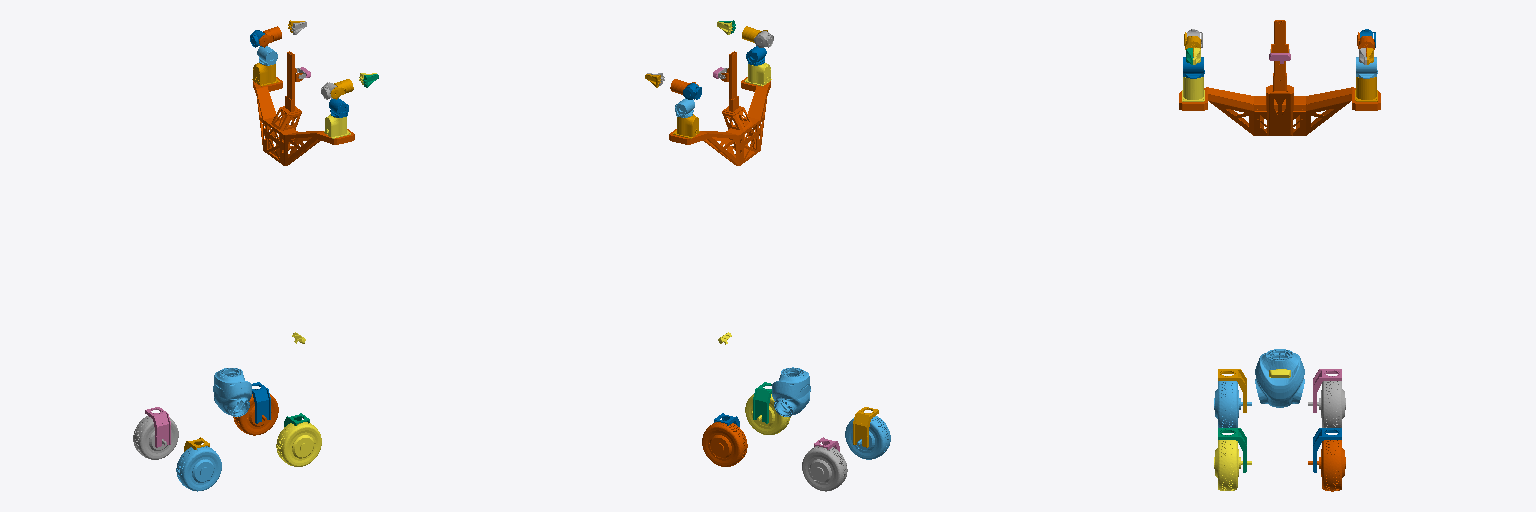
--- Render facts (derived) ---
Views: 3 orthographic renders of the robot side by side, from view 1: azimuth 30°, elevation 25°; view 2: azimuth 150°, elevation 25°; view 3: azimuth 270°, elevation 25°.
Model Aloha Split with 38 links and 37 joints (16 revolute, 4 continuous, 5 prismatic, 12 fixed), rooted at base_footprint, posed all joints at 0.
Links seen in each view (by area): view 1: lifting_link, fr_wheel_link, rr_wheel_link, base_link, rl_wheel_link, fl_wheel_link, rl_steering_wheel_link, fl_steering_wheel_link; view 2: lifting_link, fl_wheel_link, rl_wheel_link, base_link, rr_wheel_link, fr_wheel_link, rr_steering_wheel_link, fr_steering_wheel_link; view 3: lifting_link, base_link, fl_wheel_link, fr_wheel_link, rl_wheel_link, rr_wheel_link, left_base_link, right_base_link.
Boxes of the visible links, x1,y1,x2,y2 form: lifting_link: [253, 51, 354, 165]; fr_wheel_link: [276, 422, 321, 466]; rr_wheel_link: [176, 446, 221, 491]; base_link: [213, 368, 251, 416]; rl_wheel_link: [133, 416, 178, 459]; fl_wheel_link: [233, 394, 278, 435]; rl_steering_wheel_link: [145, 407, 170, 447]; fl_steering_wheel_link: [252, 382, 270, 423]; lifting_link: [669, 51, 770, 165]; fl_wheel_link: [702, 422, 747, 466]; rl_wheel_link: [802, 446, 847, 491]; base_link: [772, 367, 810, 416]; rr_wheel_link: [845, 416, 890, 459]; fr_wheel_link: [745, 394, 790, 434]; rr_steering_wheel_link: [853, 407, 878, 447]; fr_steering_wheel_link: [753, 382, 771, 423]; lifting_link: [1179, 20, 1380, 135]; base_link: [1255, 349, 1304, 407]; fl_wheel_link: [1308, 440, 1345, 491]; fr_wheel_link: [1214, 440, 1251, 490]; rl_wheel_link: [1308, 381, 1345, 427]; rr_wheel_link: [1214, 381, 1251, 427]; left_base_link: [1355, 77, 1377, 101]; right_base_link: [1182, 77, 1204, 101].
Bounding box of the posed robot: 0.9138 × 0.712 × 1.85 m (x, y, z).
Meshes: 17 distinct files referenced, 25 mesh visuals loaded (12 OBJ); not drawn: 8 (reference not matched to a file when rendering).

robot.urdf — Aloha Split:
<?xml version="1.0" ?>
<!-- =================================================================================== -->
<!-- |    This document was autogenerated by xacro from aloha_split.xacro              | -->
<!-- |    EDITING THIS FILE BY HAND IS NOT RECOMMENDED                                 | -->
<!-- =================================================================================== -->
<robot name="Aloha Split">
  <link name="base_footprint"/>
  <joint name="base_footprint_joint" type="fixed">
    <parent link="base_footprint"/>
    <child link="base_link"/>
    <origin xyz="0 0 0.33"/>
  </joint>
  <link name="base_link">
    <inertial>
      <origin xyz="-0.0242698272228022 -0.0030308024613212 0.0544267444673498"/>
      <mass value="10"/>
      <inertia ixx="0.1354" ixy="0.0" ixz="0.0" iyy="0.2417" iyz="0.0" izz="0.3085"/>
    </inertial>
    <visual>
      <geometry>
        <mesh filename="package://agilex_aloha_description/meshes/ranger_mini/base.obj"/>
      </geometry>
    </visual>
    <collision>
      <origin xyz="0 0 -0.1"/>
      <geometry>
        <box size="0.5 0.35 0.2"/>
      </geometry>
    </collision>
  </link>
  <link name="fr_steering_wheel_link">
    <inertial>
      <origin xyz="1.8493E-05 1.2713E-06 0.043679"/>
      <mass value="1"/>
      <inertia ixx="0.0063625" ixy="-1.0581E-07" ixz="-4.0831E-07" iyy="0.006363" iyz="-3.4944E-08" izz="0.010465"/>
    </inertial>
    <visual>
      <geometry>
        <mesh filename="package://agilex_aloha_description/meshes/ranger_mini/steering_wheel.obj"/>
      </geometry>
    </visual>
  </link>
  <joint name="fr_steering_joint" type="revolute">
    <origin xyz="0.241 -0.185 -0.115"/>
    <parent link="base_link"/>
    <child link="fr_steering_wheel_link"/>
    <axis xyz="0 0 -1"/>
    <limit effort="5" lower="-2.1" upper="2.1" velocity="6.28"/>
  </joint>
  <link name="fr_wheel_link">
    <inertial>
      <mass value="8"/>
      <inertia ixx="0.02047" ixy="0.0" ixz="0.0" iyy="0.02047" iyz="0.0" izz="0.0324"/>
    </inertial>
    <visual>
      <origin rpy="3.14 0 0" xyz="0 0 0"/>
      <geometry>
        <mesh filename="package://agilex_aloha_description/meshes/ranger_mini/wheel.obj"/>
      </geometry>
    </visual>
    <collision>
      <origin rpy="1.57 0 0" xyz="0 0 -0.005"/>
      <geometry>
        <cylinder length="0.08" radius="0.09"/>
      </geometry>
    </collision>
  </link>
  <joint name="fr_wheel" type="continuous">
    <origin xyz="0.0 0.0 -0.12"/>
    <parent link="fr_steering_wheel_link"/>
    <child link="fr_wheel_link"/>
    <axis xyz="0 1 0"/>
  </joint>
  <link name="fl_steering_wheel_link">
    <inertial>
      <origin xyz="-0.0017956 -9.6304E-08 0.043642"/>
      <mass value="1"/>
      <inertia ixx="0.0063695" ixy="-2.1067E-08" ixz="-0.00016867" iyy="0.006363" iyz="-1.0301E-08" izz="0.010458"/>
    </inertial>
    <visual>
      <origin rpy="0 0 3.14"/>
      <geometry>
        <mesh filename="package://agilex_aloha_description/meshes/ranger_mini/steering_wheel.obj"/>
      </geometry>
    </visual>
  </link>
  <joint name="fl_steering_joint" type="revolute">
    <origin xyz="0.241 0.185 -0.115"/>
    <parent link="base_link"/>
    <child link="fl_steering_wheel_link"/>
    <axis xyz="0 0 -1"/>
    <limit effort="5" lower="-2.1" upper="2.1" velocity="6.28"/>
  </joint>
  <link name="fl_wheel_link">
    <inertial>
      <mass value="8"/>
      <inertia ixx="0.02047" ixy="0.0" ixz="0.0" iyy="0.02047" iyz="0.0" izz="0.0324"/>
    </inertial>
    <visual>
      <geometry>
        <mesh filename="package://agilex_aloha_description/meshes/ranger_mini/wheel.obj"/>
      </geometry>
    </visual>
    <collision>
      <origin rpy="1.57 0 0" xyz="0 0 -0.005"/>
      <geometry>
        <cylinder length="0.08" radius="0.09"/>
      </geometry>
    </collision>
  </link>
  <joint name="fl_wheel" type="continuous">
    <origin xyz="0.0 0.0 -0.12"/>
    <parent link="fl_steering_wheel_link"/>
    <child link="fl_wheel_link"/>
    <axis xyz="0 1 0"/>
  </joint>
  <link name="rl_steering_wheel_link">
    <inertial>
      <origin xyz="-0.00017093 6.1255E-08 0.043678"/>
      <mass value="1"/>
      <inertia ixx="0.0063627" ixy="-2.1069E-08" ixz="-1.587E-05" iyy="0.006363" iyz="9.3201E-09" izz="0.010465"/>
    </inertial>
    <visual>
      <origin rpy="0 0 3.14"/>
      <geometry>
        <mesh filename="package://agilex_aloha_description/meshes/ranger_mini/steering_wheel.obj"/>
      </geometry>
    </visual>
  </link>
  <joint name="rl_steering_joint" type="revolute">
    <origin xyz="-0.253 0.185 -0.115"/>
    <parent link="base_link"/>
    <child link="rl_steering_wheel_link"/>
    <axis xyz="0 0 -1"/>
    <limit effort="5" lower="-2.1" upper="2.1" velocity="6.28"/>
  </joint>
  <link name="rl_wheel_link">
    <inertial>
      <mass value="8"/>
      <inertia ixx="0.02047" ixy="0.0" ixz="0.0" iyy="0.02047" iyz="0.0" izz="0.0324"/>
    </inertial>
    <visual>
      <geometry>
        <mesh filename="package://agilex_aloha_description/meshes/ranger_mini/wheel.obj"/>
      </geometry>
    </visual>
    <collision>
      <origin rpy="1.57 0 0" xyz="0.00 0.00 -0.005"/>
      <geometry>
        <cylinder length="0.08" radius="0.09"/>
      </geometry>
    </collision>
  </link>
  <joint name="rl_wheel" type="continuous">
    <origin xyz="0.0 0.0 -0.12 "/>
    <parent link="rl_steering_wheel_link"/>
    <child link="rl_wheel_link"/>
    <axis xyz="0 1 0"/>
  </joint>
  <link name="rr_steering_wheel_link">
    <inertial>
      <mass value="1"/>
      <inertia ixx="0.01" ixy="0.0" ixz="0.0" iyy="0.01" iyz="0.0" izz="0.01"/>
    </inertial>
    <visual>
      <geometry>
        <mesh filename="package://agilex_aloha_description/meshes/ranger_mini/steering_wheel.obj"/>
      </geometry>
    </visual>
  </link>
  <joint name="rr_steering_joint" type="revolute">
    <origin xyz="-0.253 -0.185 -0.115"/>
    <parent link="base_link"/>
    <child link="rr_steering_wheel_link"/>
    <axis xyz="0 0 -1"/>
    <limit effort="5" lower="-2.1" upper="2.1" velocity="6.28"/>
  </joint>
  <link name="rr_wheel_link">
    <inertial>
      <mass value="8"/>
      <inertia ixx="0.02047" ixy="0.0" ixz="0.0" iyy="0.02047" iyz="0.0" izz="0.0324"/>
    </inertial>
    <visual>
      <origin rpy="3.14 0 0"/>
      <geometry>
        <mesh filename="package://agilex_aloha_description/meshes/ranger_mini/wheel.obj"/>
      </geometry>
    </visual>
    <collision>
      <origin rpy="1.57 0 0" xyz="0.00 0 -0.005"/>
      <geometry>
        <cylinder length="0.08" radius="0.09"/>
      </geometry>
    </collision>
  </link>
  <joint name="rr_wheel" type="continuous">
    <origin xyz="0.0 0.0 -0.12 "/>
    <parent link="rr_steering_wheel_link"/>
    <child link="rr_wheel_link"/>
    <axis xyz="0 1 0"/>
  </joint>
  <link name="box_link">
    <inertial>
      <origin xyz="0.10921 -0.0087718 0.52779"/>
      <mass value="27.261"/>
      <inertia ixx="1.8122" ixy="4.558E-05" ixz="0.014722" iyy="1.7779" iyz="-4.0693E-05" izz="0.28053"/>
    </inertial>
    <visual>
      <geometry>
        <mesh filename="package://agilex_aloha_description/meshes/aloha_split/box_link.obj"/>
      </geometry>
    </visual>
    <collision>
      <geometry>
        <mesh filename="package://agilex_aloha_description/meshes/aloha_split/box_link.obj"/>
      </geometry>
    </collision>
  </link>
  <joint name="box_joint" type="fixed">
    <parent link="base_link"/>
    <child link="box_link"/>
  </joint>
  <link name="front_camera_link">
    <inertial>
      <origin xyz="-0.011443 0.0003607 -0.0012124"/>
      <mass value="0.020053"/>
      <inertia ixx="1.1182E-05" ixy="2.589E-09" ixz="5.6552E-08" iyy="2.2729E-06" iyz="-6.7447E-07" izz="1.0081E-05"/>
    </inertial>
    <visual>
      <geometry>
        <mesh filename="package://agilex_aloha_description/meshes/aloha_split/camera.obj"/>
      </geometry>
    </visual>
    <collision>
      <geometry>
        <mesh filename="package://agilex_aloha_description/meshes/aloha_split/camera.obj"/>
      </geometry>
    </collision>
  </link>
  <joint name="front_camera_joint" type="fixed">
    <origin rpy="0 0.6606 -0.0051043" xyz="0.35679 0 0.15819"/>
    <parent link="box_link"/>
    <child link="front_camera_link"/>
  </joint>
  <link name="lidar_link">
    <inertial>
      <origin xyz="-0.0022133 -0.00090659 0.025996"/>
      <mass value="0.048617"/>
      <inertia ixx="1.0358E-05" ixy="9.2377E-09" ixz="-2.6386E-07" iyy="1.0387E-05" iyz="-2.6377E-07" izz="1.7919E-05"/>
    </inertial>
    <visual>
      <geometry>
        <mesh filename="package://agilex_aloha_description/meshes/aloha_split/mid360.obj"/>
      </geometry>
    </visual>
    <collision>
      <geometry>
        <mesh filename="package://agilex_aloha_description/meshes/aloha_split/mid360.obj"/>
      </geometry>
    </collision>
  </link>
  <joint name="lidar_joint" type="fixed">
    <origin rpy="-0.035132 0.20001 -0.001242" xyz="0.31755 0 0.036188"/>
    <parent link="box_link"/>
    <child link="lidar_link"/>
  </joint>
  <link name="lifting_link">
    <inertial>
      <origin xyz="0.071327 0.00032985 0.10599"/>
      <mass value="0.47066"/>
      <inertia ixx="0.010952" ixy="-5.2124E-06" ixz="-0.00046317" iyy="0.0018329" iyz="-4.6428E-06" izz="0.010201"/>
    </inertial>
    <visual>
      <geometry>
        <mesh filename="package://agilex_aloha_description/meshes/aloha_split/lift_link.obj"/>
      </geometry>
    </visual>
    <collision>
      <geometry>
        <mesh filename="package://agilex_aloha_description/meshes/aloha_split/lift_link.obj"/>
      </geometry>
    </collision>
  </link>
  <joint name="lifting_joint" type="prismatic">
    <origin xyz="0.22448 0 1.1147"/>
    <parent link="box_link"/>
    <child link="lifting_link"/>
    <axis xyz="0 0 1"/>
    <limit effort="100" lower="-0.6" upper="0.0" velocity="10.0"/>
  </joint>
  <link name="top_camera_link">
    <inertial>
      <origin xyz="-0.011443 2.4833E-05 -0.0012615"/>
      <mass value="0.020053"/>
      <inertia ixx="1.1181E-05" ixy="1.204E-07" ixz="4.9068E-08" iyy="2.2587E-06" iyz="5.7637E-07" izz="1.0097E-05"/>
    </inertial>
    <visual>
      <geometry>
        <mesh filename="package://agilex_aloha_description/meshes/aloha_split/camera.obj"/>
      </geometry>
    </visual>
    <collision>
      <geometry>
        <mesh filename="package://agilex_aloha_description/meshes/aloha_split/camera.obj"/>
      </geometry>
    </collision>
  </link>
  <joint name="top_camera_joint" type="fixed">
    <origin rpy="0 0.00080758 -0.01623" xyz="0.16194 0 0.29838"/>
    <parent link="lifting_link"/>
    <child link="top_camera_link"/>
  </joint>
  <link name="top_camera_support">
    <visual>
      <geometry>
        <mesh filename="package://agilex_aloha_description/meshes/aloha_split/camera_support.obj"/>
      </geometry>
    </visual>
  </link>
  <joint name="top_camera_support_joint" type="fixed">
    <origin rpy="0 0.00080758 -0.01623" xyz="0.16194 0 0.29838"/>
    <parent link="lifting_link"/>
    <child link="top_camera_support"/>
  </joint>
  <link name="left_base_link">
    <inertial>
      <origin xyz="-0.00473641164191482 2.56829134630247E-05 0.041451518036016"/>
      <mass value="1.02"/>
      <inertia ixx="0.00267433" ixy="-0.00000073" ixz="-0.00017389" iyy="0.00282612" iyz="0.0000004" izz="0.00089624"/>
    </inertial>
    <visual>
      <geometry>
        <mesh filename="package://piper_description/meshes/base_link.obj"/>
      </geometry>
    </visual>
    <collision>
      <geometry>
        <mesh filename="package://piper_description/meshes/base_link.obj"/>
      </geometry>
    </collision>
  </link>
  <link name="left_link1">
    <inertial>
      <origin xyz="0.000121504734057468 0.000104632162460536 -0.00438597309559853"/>
      <mass value="0.71"/>
      <inertia ixx="0.00048916" ixy="-0.00000036" ixz="-0.00000224" iyy="0.00040472" iyz="-0.00000242" izz="0.00043982"/>
    </inertial>
    <visual>
      <geometry>
        <mesh filename="package://piper_description/meshes/link1.obj"/>
      </geometry>
    </visual>
    <collision>
      <geometry>
        <mesh filename="package://piper_description/meshes/link1.obj"/>
      </geometry>
    </collision>
  </link>
  <joint name="left_joint1" type="revolute">
    <origin rpy="0 0 0" xyz="0 0 0.123"/>
    <parent link="left_base_link"/>
    <child link="left_link1"/>
    <axis xyz="0 0 1"/>
    <limit effort="100" lower="-2.618" upper="2.618" velocity="5"/>
  </joint>
  <link name="left_link2">
    <inertial>
      <origin rpy="0 0 0" xyz="0.198666145229743 -0.010926924140076 0.00142121714502687"/>
      <mass value="1.17"/>
      <inertia ixx="0.00116918" ixy="-0.00180037" ixz="0.00025146" iyy="0.06785384" iyz="-0.00000455" izz="0.06774489"/>
    </inertial>
    <visual>
      <geometry>
        <mesh filename="package://piper_description/meshes/link2.obj"/>
      </geometry>
    </visual>
    <collision>
      <geometry>
        <mesh filename="package://piper_description/meshes/link2.obj"/>
      </geometry>
    </collision>
  </link>
  <joint name="left_joint2" type="revolute">
    <origin rpy="1.5708 -0.1359 -3.1416" xyz="0 0 0"/>
    <parent link="left_link1"/>
    <child link="left_link2"/>
    <axis xyz="0 0 1"/>
    <limit effort="100" lower="0" upper="3.14" velocity="5"/>
  </joint>
  <link name="left_link3">
    <inertial>
      <origin rpy="0 0 0" xyz="-0.0202737662122021 -0.133914995944595 -0.000458682652737356"/>
      <mass value="0.5"/>
      <inertia ixx="0.01361711" ixy="0.00165794" ixz="-0.00000048" iyy="0.00045024" iyz="-0.00000045" izz="0.01380322"/>
    </inertial>
    <visual>
      <geometry>
        <mesh filename="package://piper_description/meshes/link3.obj"/>
      </geometry>
    </visual>
    <collision>
      <geometry>
        <mesh filename="package://piper_description/meshes/link3.obj"/>
      </geometry>
    </collision>
  </link>
  <joint name="left_joint3" type="revolute">
    <origin rpy="0 0 -1.7939" xyz="0.28503 0 0"/>
    <parent link="left_link2"/>
    <child link="left_link3"/>
    <axis xyz="0 0 1"/>
    <limit effort="100" lower="-2.967" upper="0" velocity="5"/>
  </joint>
  <link name="left_link4">
    <inertial>
      <origin rpy="0 0 0" xyz="-9.66635791618542E-05 0.000876064475651083 -0.00496880904640868"/>
      <mass value="0.38"/>
      <inertia ixx="0.00018501" ixy="0.00000054" ixz="0.00000120" iyy="0.00018965" iyz="-0.00000841" izz="0.00015484"/>
    </inertial>
    <visual>
      <geometry>
        <mesh filename="package://piper_description/meshes/link4.obj"/>
      </geometry>
    </visual>
    <collision>
      <geometry>
        <mesh filename="package://piper_description/meshes/link4.obj"/>
      </geometry>
    </collision>
  </link>
  <joint name="left_joint4" type="revolute">
    <origin rpy="1.5708 0 0" xyz="-0.021984 -0.25075 0"/>
    <parent link="left_link3"/>
    <child link="left_link4"/>
    <axis xyz="0 0 1"/>
    <limit effort="100" lower="-1.745" upper="1.745" velocity="5"/>
  </joint>
  <link name="left_link5">
    <inertial>
      <origin rpy="0 0 0" xyz="-4.10554118924211E-05 -0.0566486692356075 -0.0037205791677906"/>
      <mass value="0.383"/>
      <inertia ixx="0.00166169" ixy="0.00000006" ixz="-0.00000007" iyy="0.00018510" iyz="0.00001026" izz="0.00164321"/>
    </inertial>
    <visual>
      <geometry>
        <mesh filename="package://piper_description/meshes/link5.obj"/>
      </geometry>
    </visual>
    <collision>
      <geometry>
        <mesh filename="package://piper_description/meshes/link5.obj"/>
      </geometry>
    </collision>
  </link>
  <joint name="left_joint5" type="revolute">
    <origin rpy="-1.5708 0 0" xyz="0 0 0"/>
    <parent link="left_link4"/>
    <child link="left_link5"/>
    <axis xyz="0 0 1"/>
    <limit effort="100" lower="-1.22" upper="1.22" velocity="5"/>
  </joint>
  <joint name="left_joint6" type="revolute">
    <origin rpy="1.5708 0 0" xyz="0 -0.091 0"/>
    <parent link="left_link5"/>
    <child link="left_link6"/>
    <axis xyz="0 0 1"/>
    <limit effort="100" lower="-2.0944" upper="2.0944" velocity="3"/>
  </joint>
  <link name="left_link6">
    <inertial>
      <origin xyz="-0.000183807162235591 8.05033155577911E-05 0.0321436689908876"/>
      <mass value="0.657"/>
      <inertia ixx="0.00092934" ixy="0.00000034" ixz="-0.00000738" iyy="0.00071447" iyz="0.00000005" izz="0.00039442"/>
    </inertial>
    <visual>
      <geometry>
        <mesh filename="package://piper_description/meshes/link6.obj"/>
      </geometry>
    </visual>
    <collision>
      <geometry>
        <mesh filename="package://piper_description/meshes/link6.obj"/>
      </geometry>
    </collision>
  </link>
  <link name="left_link7">
    <inertial>
      <origin rpy="0 0 0" xyz="0.00065123185041968 -0.0491929869131989 0.00972258769184025"/>
      <mass value="0.025"/>
      <inertia ixx="0.00007371" ixy="-0.00000113" ixz="0.00000021" iyy="0.00000781" iyz="-0.00001372" izz="0.0000747"/>
    </inertial>
    <visual>
      <geometry>
        <mesh filename="package://piper_description/meshes/link7.obj"/>
      </geometry>
    </visual>
    <collision>
      <geometry>
        <mesh filename="package://piper_description/meshes/link7.obj"/>
      </geometry>
    </collision>
  </link>
  <joint name="left_joint7" type="prismatic">
    <origin xyz="0 0 0.1358"/>
    <parent link="left_link6"/>
    <child link="left_link7"/>
    <axis xyz="0 -1 0"/>
    <limit effort="10" lower="0" upper="0.035" velocity="1"/>
  </joint>
  <link name="left_link8">
    <inertial>
      <origin xyz="0.000651231850419722 -0.0491929869131991 0.00972258769184024"/>
      <mass value="0.025"/>
      <inertia ixx="0.00007371" ixy="-0.00000113" ixz="0.00000021" iyy="0.00000781" iyz="-0.00001372" izz="0.0000747"/>
    </inertial>
    <visual>
      <geometry>
        <mesh filename="package://piper_description/meshes/link8.obj"/>
      </geometry>
    </visual>
    <collision>
      <geometry>
        <mesh filename="package://piper_description/meshes/link8.obj"/>
      </geometry>
    </collision>
  </link>
  <joint name="left_joint8" type="prismatic">
    <origin xyz="0 0 0.1358"/>
    <parent link="left_link6"/>
    <child link="left_link8"/>
    <mimic joint="left_joint7" multiplier="1" offset="0"/>
    <axis xyz="0 1 0"/>
    <limit effort="10" lower="0" upper="0.035" velocity="1"/>
  </joint>
  <link name="left_gripper_center"/>
  <joint name="left_gripper_center_fixed" type="fixed">
    <parent link="left_link6"/>
    <child link="left_gripper_center"/>
    <origin rpy="0 -1.57 0" xyz="0 0 0.1358"/>
  </joint>
  <link name="left_camera"/>
  <joint name="left_camera_fixed" type="fixed">
    <origin rpy="0 -1.22 0" xyz="-0.073 0 0.041"/>
    <parent link="left_link6"/>
    <child link="left_camera"/>
  </joint>
  <joint name="arm_and_lifting_left" type="fixed">
    <origin rpy="0.0 0.0 0.0" xyz="0.144 0.306 0.138"/>
    <parent link="lifting_link"/>
    <child link="left_base_link"/>
    <axis xyz="0.0 0.0 0.0"/>
    <limit effort="0.0" lower="0.0" upper="0.0" velocity="0.0"/>
  </joint>
  <link name="right_base_link">
    <inertial>
      <origin xyz="-0.00473641164191482 2.56829134630247E-05 0.041451518036016"/>
      <mass value="1.02"/>
      <inertia ixx="0.00267433" ixy="-0.00000073" ixz="-0.00017389" iyy="0.00282612" iyz="0.0000004" izz="0.00089624"/>
    </inertial>
    <visual>
      <geometry>
        <mesh filename="package://piper_description/meshes/base_link.obj"/>
      </geometry>
    </visual>
    <collision>
      <geometry>
        <mesh filename="package://piper_description/meshes/base_link.obj"/>
      </geometry>
    </collision>
  </link>
  <link name="right_link1">
    <inertial>
      <origin xyz="0.000121504734057468 0.000104632162460536 -0.00438597309559853"/>
      <mass value="0.71"/>
      <inertia ixx="0.00048916" ixy="-0.00000036" ixz="-0.00000224" iyy="0.00040472" iyz="-0.00000242" izz="0.00043982"/>
    </inertial>
    <visual>
      <geometry>
        <mesh filename="package://piper_description/meshes/link1.obj"/>
      </geometry>
    </visual>
    <collision>
      <geometry>
        <mesh filename="package://piper_description/meshes/link1.obj"/>
      </geometry>
    </collision>
  </link>
  <joint name="right_joint1" type="revolute">
    <origin rpy="0 0 0" xyz="0 0 0.123"/>
    <parent link="right_base_link"/>
    <child link="right_link1"/>
    <axis xyz="0 0 1"/>
    <limit effort="100" lower="-2.618" upper="2.618" velocity="5"/>
  </joint>
  <link name="right_link2">
    <inertial>
      <origin rpy="0 0 0" xyz="0.198666145229743 -0.010926924140076 0.00142121714502687"/>
      <mass value="1.17"/>
      <inertia ixx="0.00116918" ixy="-0.00180037" ixz="0.00025146" iyy="0.06785384" iyz="-0.00000455" izz="0.06774489"/>
    </inertial>
    <visual>
      <geometry>
        <mesh filename="package://piper_description/meshes/link2.obj"/>
      </geometry>
    </visual>
    <collision>
      <geometry>
        <mesh filename="package://piper_description/meshes/link2.obj"/>
      </geometry>
    </collision>
  </link>
  <joint name="right_joint2" type="revolute">
    <origin rpy="1.5708 -0.1359 -3.1416" xyz="0 0 0"/>
    <parent link="right_link1"/>
    <child link="right_link2"/>
    <axis xyz="0 0 1"/>
    <limit effort="100" lower="0" upper="3.14" velocity="5"/>
  </joint>
  <link name="right_link3">
    <inertial>
      <origin rpy="0 0 0" xyz="-0.0202737662122021 -0.133914995944595 -0.000458682652737356"/>
      <mass value="0.5"/>
      <inertia ixx="0.01361711" ixy="0.00165794" ixz="-0.00000048" iyy="0.00045024" iyz="-0.00000045" izz="0.01380322"/>
    </inertial>
    <visual>
      <geometry>
        <mesh filename="package://piper_description/meshes/link3.obj"/>
      </geometry>
    </visual>
    <collision>
      <geometry>
        <mesh filename="package://piper_description/meshes/link3.obj"/>
      </geometry>
    </collision>
  </link>
  <joint name="right_joint3" type="revolute">
    <origin rpy="0 0 -1.7939" xyz="0.28503 0 0"/>
    <parent link="right_link2"/>
    <child link="right_link3"/>
    <axis xyz="0 0 1"/>
    <limit effort="100" lower="-2.967" upper="0" velocity="5"/>
  </joint>
  <link name="right_link4">
    <inertial>
      <origin rpy="0 0 0" xyz="-9.66635791618542E-05 0.000876064475651083 -0.00496880904640868"/>
      <mass value="0.38"/>
      <inertia ixx="0.00018501" ixy="0.00000054" ixz="0.00000120" iyy="0.00018965" iyz="-0.00000841" izz="0.00015484"/>
    </inertial>
    <visual>
      <geometry>
        <mesh filename="package://piper_description/meshes/link4.obj"/>
      </geometry>
    </visual>
    <collision>
      <geometry>
        <mesh filename="package://piper_description/meshes/link4.obj"/>
      </geometry>
    </collision>
  </link>
  <joint name="right_joint4" type="revolute">
    <origin rpy="1.5708 0 0" xyz="-0.021984 -0.25075 0"/>
    <parent link="right_link3"/>
    <child link="right_link4"/>
    <axis xyz="0 0 1"/>
    <limit effort="100" lower="-1.745" upper="1.745" velocity="5"/>
  </joint>
  <link name="right_link5">
    <inertial>
      <origin rpy="0 0 0" xyz="-4.10554118924211E-05 -0.0566486692356075 -0.0037205791677906"/>
      <mass value="0.383"/>
      <inertia ixx="0.00166169" ixy="0.00000006" ixz="-0.00000007" iyy="0.00018510" iyz="0.00001026" izz="0.00164321"/>
    </inertial>
    <visual>
      <geometry>
        <mesh filename="package://piper_description/meshes/link5.obj"/>
      </geometry>
    </visual>
    <collision>
      <geometry>
        <mesh filename="package://piper_description/meshes/link5.obj"/>
      </geometry>
    </collision>
  </link>
  <joint name="right_joint5" type="revolute">
    <origin rpy="-1.5708 0 0" xyz="0 0 0"/>
    <parent link="right_link4"/>
    <child link="right_link5"/>
    <axis xyz="0 0 1"/>
    <limit effort="100" lower="-1.22" upper="1.22" velocity="5"/>
  </joint>
  <joint name="right_joint6" type="revolute">
    <origin rpy="1.5708 0 0" xyz="0 -0.091 0"/>
    <parent link="right_link5"/>
    <child link="right_link6"/>
    <axis xyz="0 0 1"/>
    <limit effort="100" lower="-2.0944" upper="2.0944" velocity="3"/>
  </joint>
  <link name="right_link6">
    <inertial>
      <origin xyz="-0.000183807162235591 8.05033155577911E-05 0.0321436689908876"/>
      <mass value="0.657"/>
      <inertia ixx="0.00092934" ixy="0.00000034" ixz="-0.00000738" iyy="0.00071447" iyz="0.00000005" izz="0.00039442"/>
    </inertial>
    <visual>
      <geometry>
        <mesh filename="package://piper_description/meshes/link6.obj"/>
      </geometry>
    </visual>
    <collision>
      <geometry>
        <mesh filename="package://piper_description/meshes/link6.obj"/>
      </geometry>
    </collision>
  </link>
  <link name="right_link7">
    <inertial>
      <origin rpy="0 0 0" xyz="0.00065123185041968 -0.0491929869131989 0.00972258769184025"/>
      <mass value="0.025"/>
      <inertia ixx="0.00007371" ixy="-0.00000113" ixz="0.00000021" iyy="0.00000781" iyz="-0.00001372" izz="0.0000747"/>
    </inertial>
    <visual>
      <geometry>
        <mesh filename="package://piper_description/meshes/link7.obj"/>
      </geometry>
    </visual>
    <collision>
      <geometry>
        <mesh filename="package://piper_description/meshes/link7.obj"/>
      </geometry>
    </collision>
  </link>
  <joint name="right_joint7" type="prismatic">
    <origin xyz="0 0 0.1358"/>
    <parent link="right_link6"/>
    <child link="right_link7"/>
    <axis xyz="0 -1 0"/>
    <limit effort="10" lower="0" upper="0.035" velocity="1"/>
  </joint>
  <link name="right_link8">
    <inertial>
      <origin xyz="0.000651231850419722 -0.0491929869131991 0.00972258769184024"/>
      <mass value="0.025"/>
      <inertia ixx="0.00007371" ixy="-0.00000113" ixz="0.00000021" iyy="0.00000781" iyz="-0.00001372" izz="0.0000747"/>
    </inertial>
    <visual>
      <geometry>
        <mesh filename="package://piper_description/meshes/link8.obj"/>
      </geometry>
    </visual>
    <collision>
      <geometry>
        <mesh filename="package://piper_description/meshes/link8.obj"/>
      </geometry>
    </collision>
  </link>
  <joint name="right_joint8" type="prismatic">
    <origin xyz="0 0 0.1358"/>
    <parent link="right_link6"/>
    <child link="right_link8"/>
    <mimic joint="right_joint7" multiplier="1" offset="0"/>
    <axis xyz="0 1 0"/>
    <limit effort="10" lower="0" upper="0.035" velocity="1"/>
  </joint>
  <link name="right_gripper_center"/>
  <joint name="right_gripper_center_fixed" type="fixed">
    <parent link="right_link6"/>
    <child link="right_gripper_center"/>
    <origin rpy="0 -1.57 0" xyz="0 0 0.1358"/>
  </joint>
  <link name="right_camera"/>
  <joint name="right_camera_fixed" type="fixed">
    <origin rpy="0 -1.22 0" xyz="-0.073 0 0.041"/>
    <parent link="right_link6"/>
    <child link="right_camera"/>
  </joint>
  <joint name="arm_and_lifting_right" type="fixed">
    <origin rpy="0.0 0.0 0.0" xyz="0.144 -0.306 0.138"/>
    <parent link="lifting_link"/>
    <child link="right_base_link"/>
    <axis xyz="0.0 0.0 0.0"/>
    <limit effort="0.0" lower="0.0" upper="0.0" velocity="0.0"/>
  </joint>
</robot>
